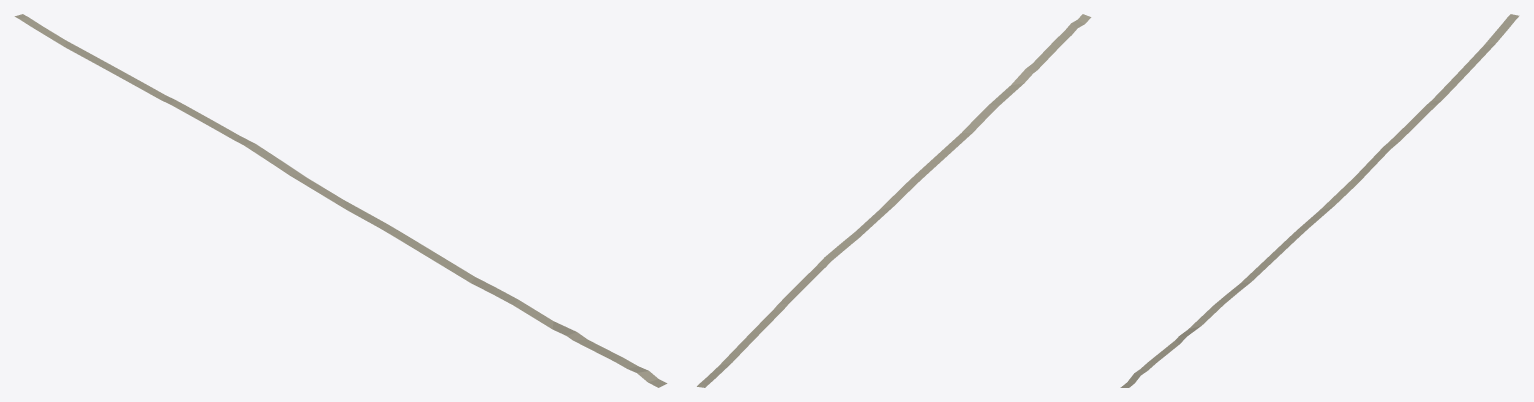
Rendered from Trail_HillHamlet.glb.
3 views of the same model, side by side, from view 1: azimuth 30°, elevation 25°; view 2: azimuth 150°, elevation 25°; view 3: azimuth 330°, elevation 25° (orthographic). The views are drawn at different scales.
Visible parts, largest first — view 1: Trail_HillHamlet; view 2: Trail_HillHamlet; view 3: Trail_HillHamlet.
Part boxes in pixels (x1=…): Trail_HillHamlet: x1=14, y1=14, x2=667, y2=387; Trail_HillHamlet: x1=697, y1=14, x2=1091, y2=387; Trail_HillHamlet: x1=1120, y1=14, x2=1519, y2=387.
Bounding box in the file's own units: 15.92 × 1.48 × 134.
